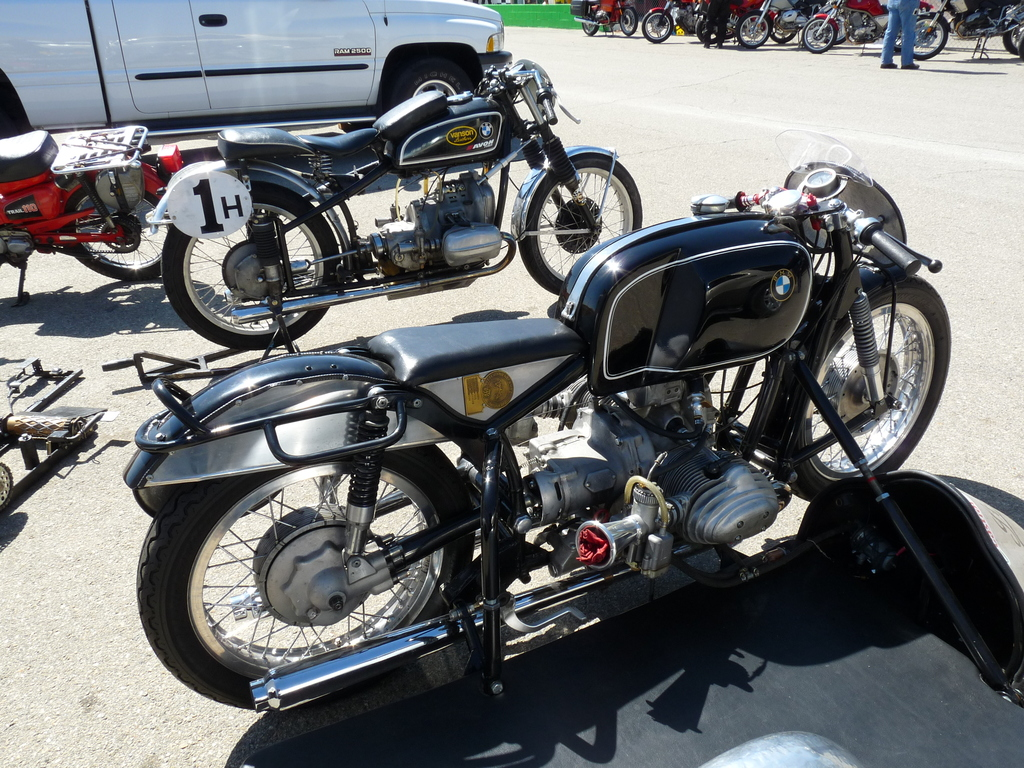Car: (0, 0, 515, 133)
